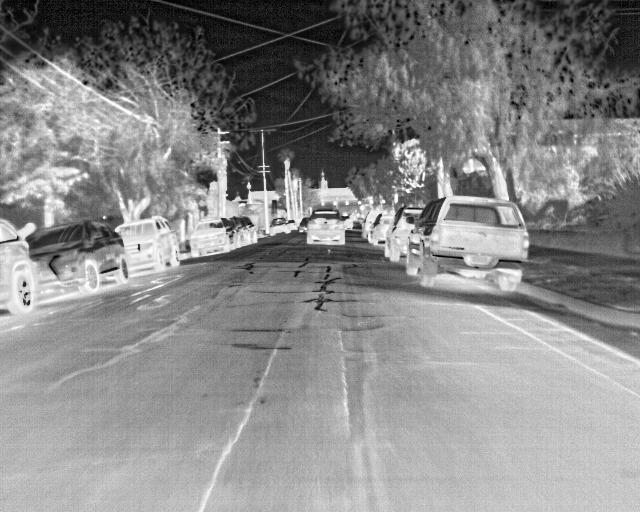car: (409, 197, 529, 295), (24, 222, 131, 296), (112, 216, 181, 270), (1, 216, 35, 316), (386, 206, 425, 261), (189, 218, 242, 257), (308, 209, 344, 246), (368, 212, 391, 246), (360, 210, 381, 241), (236, 217, 257, 246), (271, 218, 289, 236), (297, 218, 311, 234), (342, 214, 355, 230), (289, 219, 299, 230)
